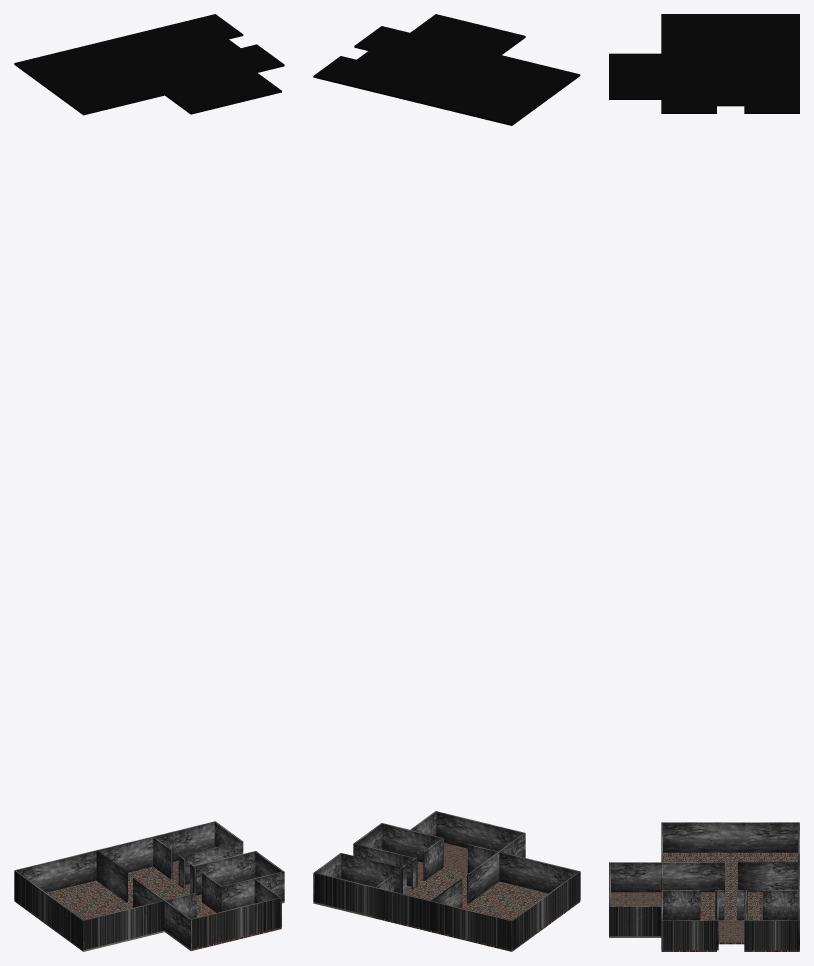
Rendered from CasaTexturitzada.fbx.
3 renders of one model, left to right at view 1: azimuth 30°, elevation 25°; view 2: azimuth 150°, elevation 25°; view 3: azimuth 270°, elevation 25°, orthographic.
Parts seen in each view (by area): view 1: techo, Pla, Plane, Plane.016, techo.001, Plane.019, Plane.020, Plane.018, Plane.002, Plane.004, Plane.003, Plane.001 (+2 smaller); view 2: techo, Plane, Pla, Plane.018, techo.001, Plane.020, Plane.016, Plane.019, Plane.001, Plane.004, Plane.003, Plane.002 (+2 smaller); view 3: techo, Plane.020, Pla, Plane.004, techo.001, Plane, Plane.015, Plane.012, Plane.017, Plane.005, Plane.010, Pla.001.
Part boxes in pixels (x1,y1,x2,y2): techo: (14,14,284,115); Pla: (14,860,284,951); Plane: (96,821,215,902); Plane.016: (190,897,280,948); techo.001: (164,71,281,114); Plane.019: (83,900,164,949); Plane.020: (14,870,84,950); Plane.018: (15,850,96,892); Plane.002: (193,851,255,895); Plane.004: (133,877,192,949); Plane.003: (220,871,284,911); Plane.001: (181,841,243,884); techo: (313,26,580,125); Plane: (313,872,462,930); Pla: (313,861,580,951); Plane.018: (431,901,512,950); techo.001: (410,14,525,54); Plane.020: (512,871,580,949); Plane.016: (435,811,524,851); Plane.019: (499,851,578,893); Plane.001: (341,853,402,893); Plane.004: (467,833,525,903); Plane.003: (381,823,443,867); Plane.002: (353,843,416,887); techo: (661,14,799,113); Plane.020: (661,822,798,852); Pla: (661,852,799,951); Plane.004: (609,862,724,892); techo.001: (609,53,661,99); Plane: (738,862,799,950); Plane.015: (744,920,799,950); Plane.012: (663,920,718,950); Plane.017: (609,906,660,936); Plane.005: (663,890,700,920); Plane.010: (762,890,799,920); Pla.001: (609,892,661,937).
Size of the model in its own units: 5041 by 20040 by 4130.
